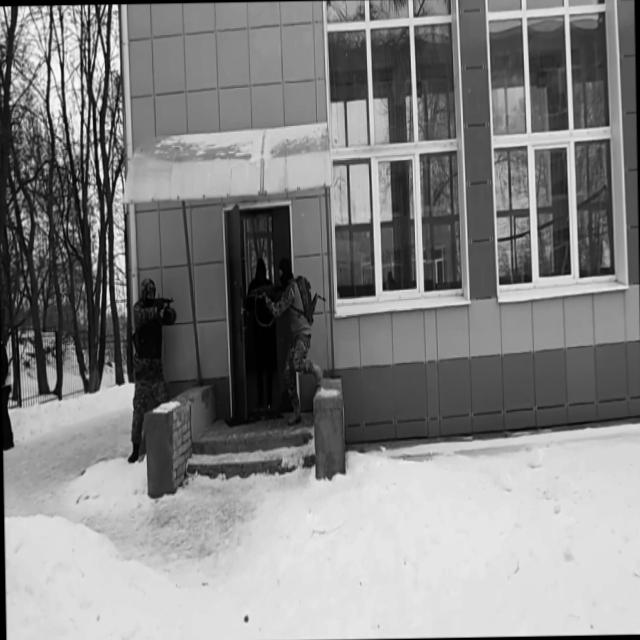gun: (242, 280, 286, 302), (140, 294, 175, 320)
person: (242, 256, 278, 410)
person with a gun: (242, 255, 325, 426), (124, 275, 180, 464)
